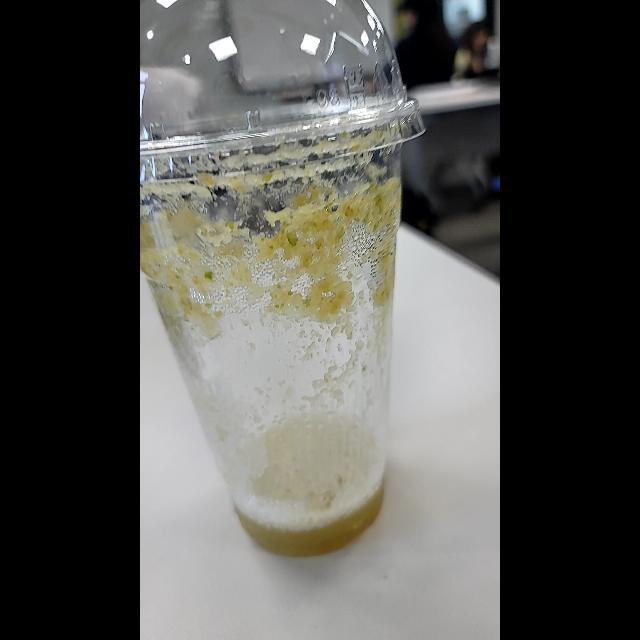plastic_cup: (146, 0, 417, 556)
plastic_cup_lid: (140, 0, 422, 194)
